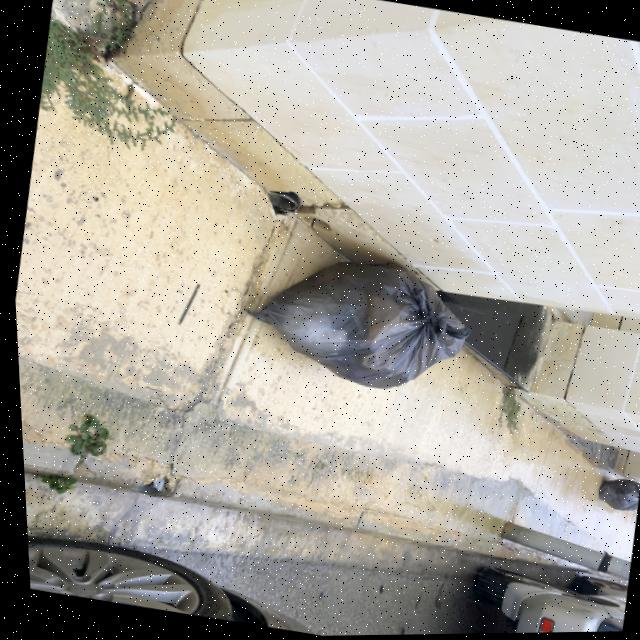Mixed Waste -Black Bag-: (227, 237, 481, 408), (588, 476, 637, 517)
